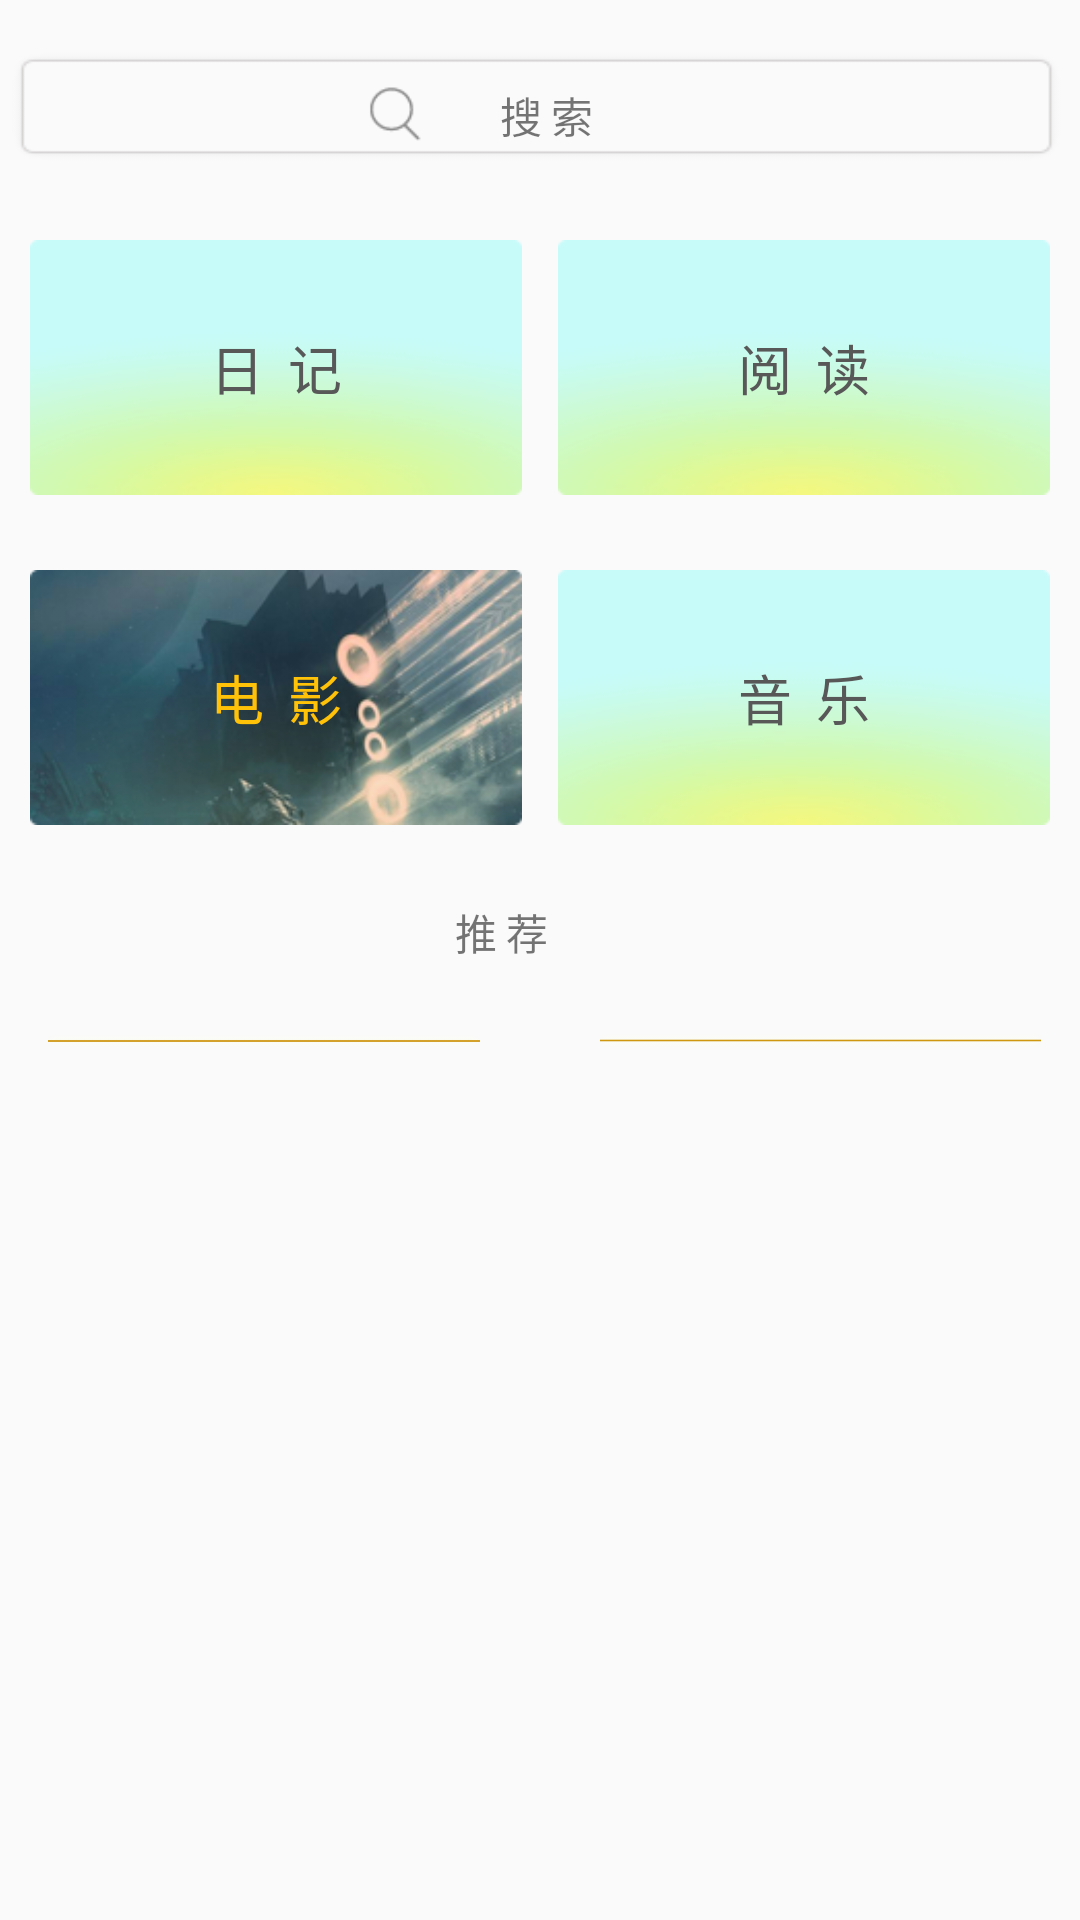

Icons on this 1080*1920 Android screen, each with its box as bbox(x1, y1, x2, y2):
search: bbox(370, 87, 420, 140)
